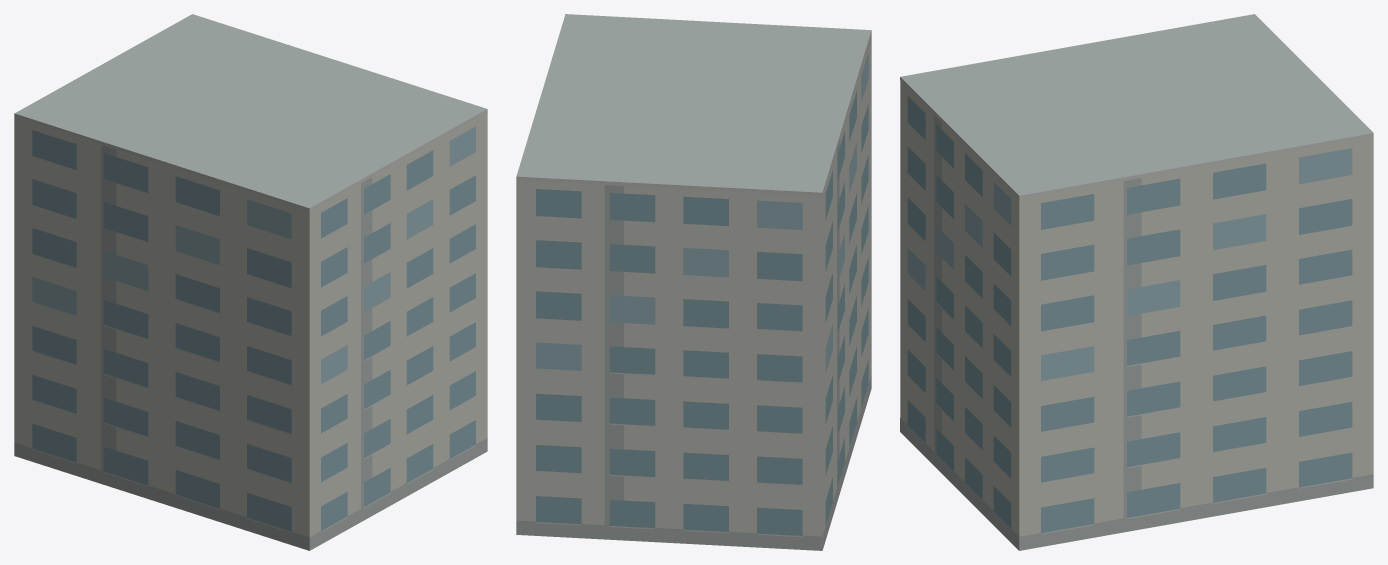
Rendered from survey-upis-32859939.glb.
3 views of the same model, side by side, from view 1: azimuth 30°, elevation 25°; view 2: azimuth 150°, elevation 25°; view 3: azimuth 270°, elevation 25° (orthographic). The views are drawn at different scales.
Visible parts, largest first — view 1: survey-upis-32859939.tmp; view 2: survey-upis-32859939.tmp; view 3: survey-upis-32859939.tmp.
Part boxes in pixels (<box>): survey-upis-32859939.tmp: <box>14,14,487,550</box>; survey-upis-32859939.tmp: <box>516,14,871,550</box>; survey-upis-32859939.tmp: <box>900,14,1373,550</box>.
Bounding box in the file's own units: 26.36 × 24 × 29.02.
